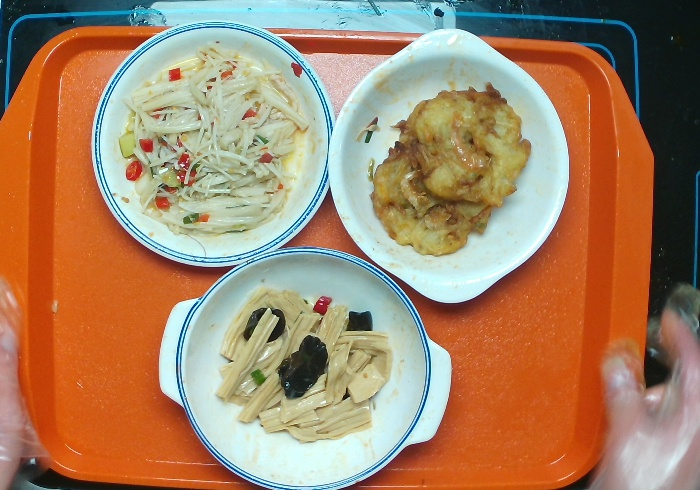HZYJPL-Dai_Er_Bai_Yuan_Wan: (326, 27, 571, 304)
HZYJPL-Lan_Bian_Dai_Er_Wan: (156, 244, 453, 490)
HZYJPL-Lan_Bian_Yuan_Die: (89, 19, 336, 269)
